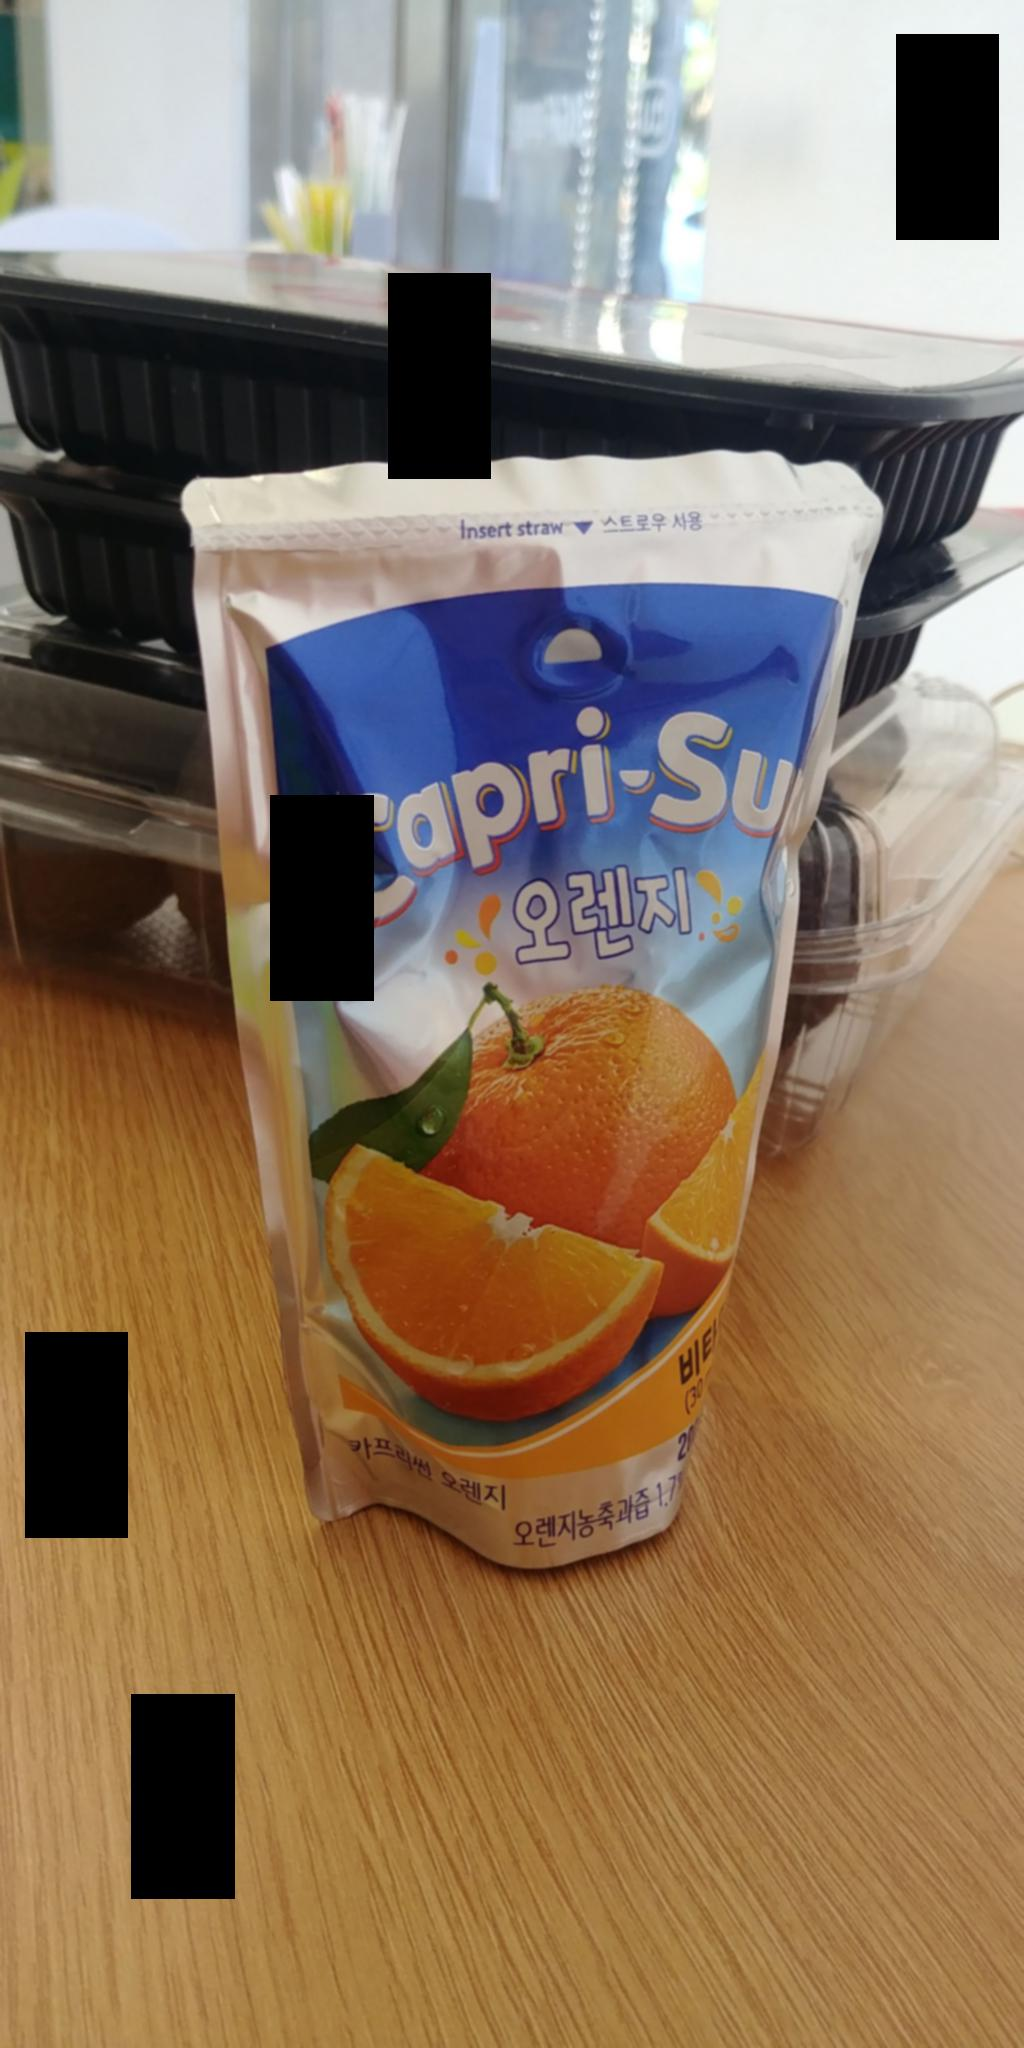cafrisun: (144, 415, 922, 1640)
